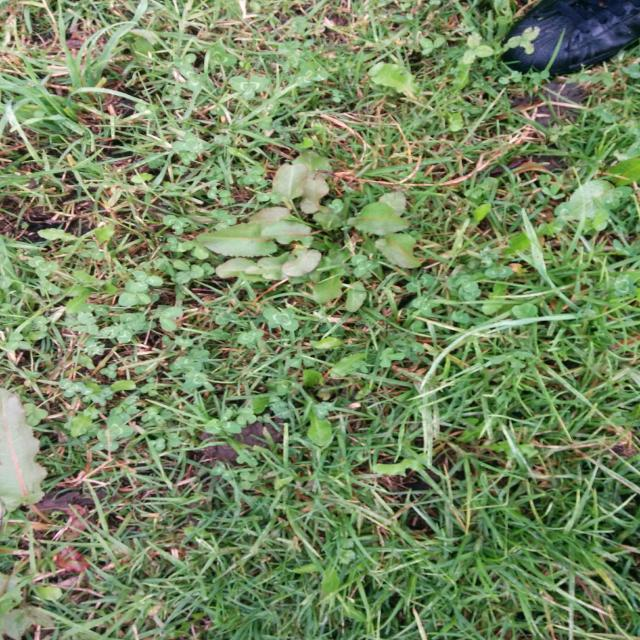Four Leaf Clover: (263, 309, 299, 331)
